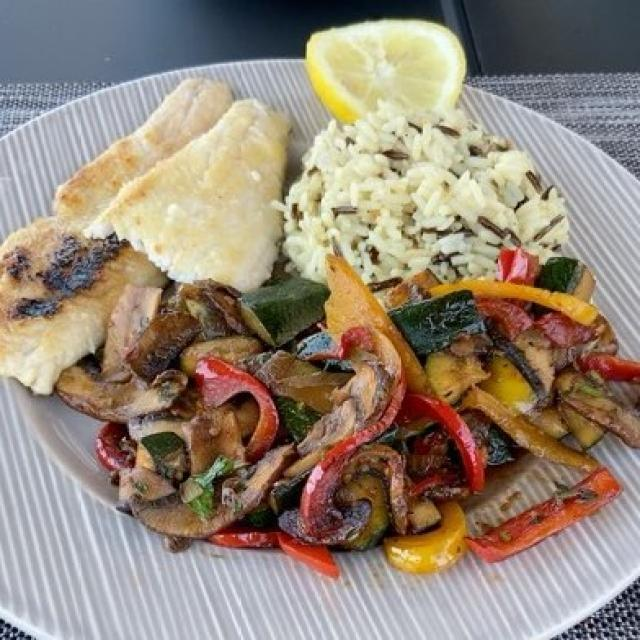fish: (4, 89, 302, 397)
lemon: (302, 22, 473, 129)
mixed-vegetables: (57, 259, 612, 573)
mushrooms: (57, 265, 607, 530)
rice-wild: (289, 115, 575, 296)
